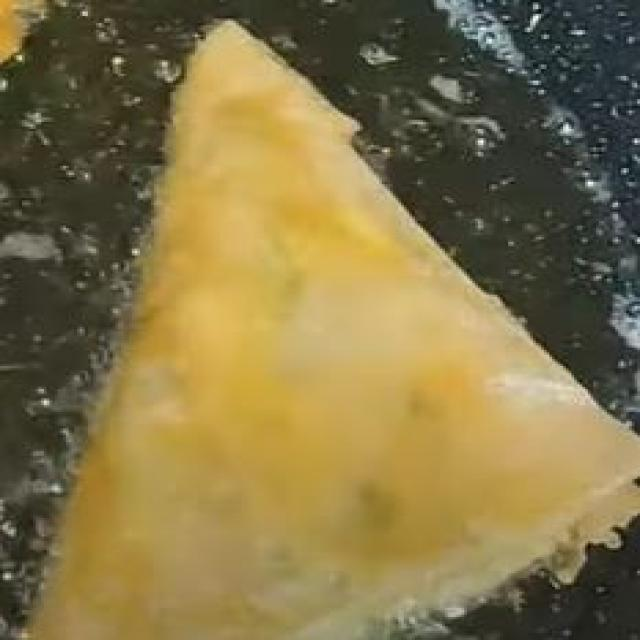brik: (51, 31, 614, 633)
